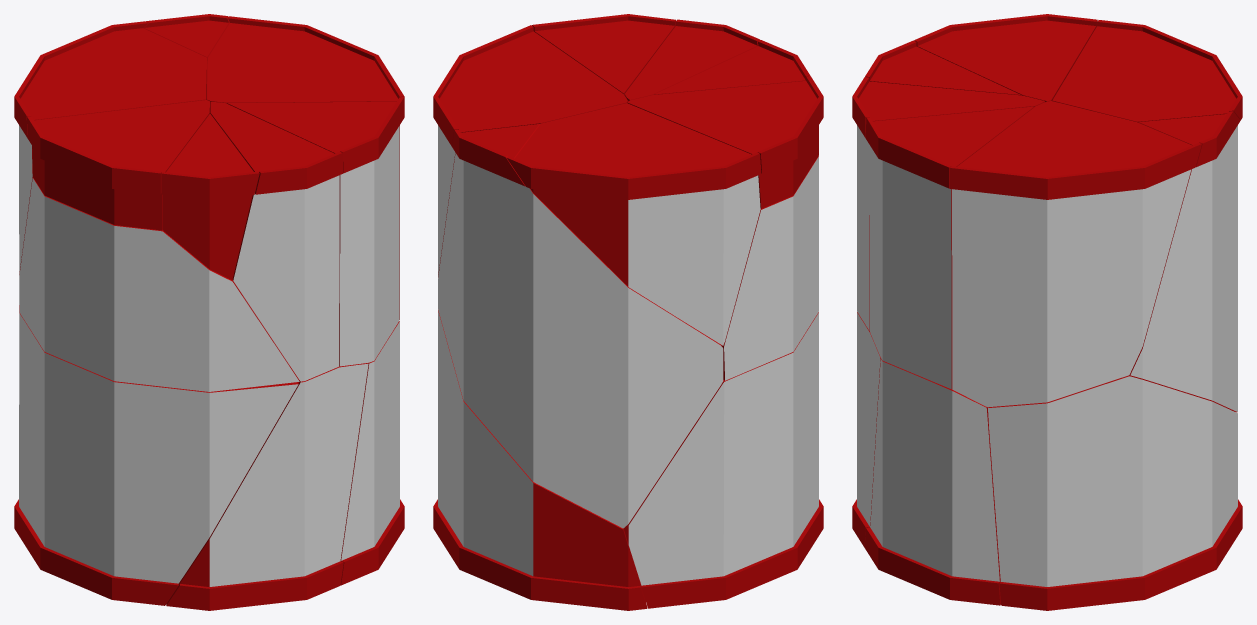
Rendered from barrel2.fbx.
3 renders of one model, left to right at view 1: azimuth 30°, elevation 25°; view 2: azimuth 150°, elevation 25°; view 3: azimuth 270°, elevation 25°, orthographic.
Parts seen in each view (by area): view 1: Barrel_cell.003, Barrel_cell.008, Barrel_cell.001, Barrel_cell.002, Barrel_cell.009, Barrel_cell.011, Barrel_cell, Barrel_cell.007, Barrel_cell.005, Barrel_cell.004, Barrel_cell.010; view 2: Barrel_cell.010, Barrel_cell, Barrel_cell.003, Barrel_cell.006, Barrel_cell.007, Barrel_cell.008, Barrel_cell.011, Barrel_cell.009, Barrel_cell.002, Barrel_cell.004; view 3: Barrel_cell.007, Barrel_cell.006, Barrel_cell.005, Barrel_cell.009, Barrel_cell.010, Barrel_cell, Barrel_cell.011, Barrel_cell.002, Barrel_cell.001, Barrel_cell.004.
Boxes of the visible parts, x1=… form: Barrel_cell.003: x1=14, y1=313, x2=298, y2=605; Barrel_cell.008: x1=19, y1=178, x2=299, y2=391; Barrel_cell.001: x1=166, y1=363, x2=368, y2=610; Barrel_cell.002: x1=209, y1=102, x2=342, y2=381; Barrel_cell.009: x1=227, y1=97, x2=404, y2=366; Barrel_cell.011: x1=27, y1=100, x2=209, y2=230; Barrel_cell: x1=14, y1=21, x2=206, y2=274; Barrel_cell.007: x1=207, y1=16, x2=404, y2=319; Barrel_cell.005: x1=340, y1=321, x2=404, y2=585; Barrel_cell.004: x1=161, y1=114, x2=259, y2=279; Barrel_cell.010: x1=19, y1=14, x2=229, y2=312; Barrel_cell.010: x1=438, y1=124, x2=723, y2=528; Barrel_cell: x1=506, y1=103, x2=761, y2=345; Barrel_cell.003: x1=624, y1=312, x2=823, y2=608; Barrel_cell.006: x1=433, y1=310, x2=647, y2=610; Barrel_cell.007: x1=433, y1=25, x2=627, y2=277; Barrel_cell.008: x1=721, y1=156, x2=818, y2=380; Barrel_cell.011: x1=627, y1=76, x2=823, y2=208; Barrel_cell.009: x1=532, y1=14, x2=675, y2=94; Barrel_cell.002: x1=624, y1=19, x2=759, y2=101; Barrel_cell.004: x1=653, y1=40, x2=810, y2=94; Barrel_cell.007: x1=949, y1=101, x2=1201, y2=407; Barrel_cell.006: x1=988, y1=376, x2=1242, y2=610; Barrel_cell.005: x1=864, y1=358, x2=1000, y2=605; Barrel_cell.009: x1=865, y1=106, x2=1034, y2=389; Barrel_cell.010: x1=1128, y1=111, x2=1240, y2=412; Barrel_cell: x1=1052, y1=20, x2=1242, y2=122; Barrel_cell.011: x1=914, y1=14, x2=1097, y2=101; Barrel_cell.002: x1=852, y1=77, x2=1044, y2=331; Barrel_cell.001: x1=852, y1=312, x2=880, y2=547; Barrel_cell.004: x1=865, y1=40, x2=1021, y2=95.
Bounding box in the file's own units: 82 × 100 × 82.
